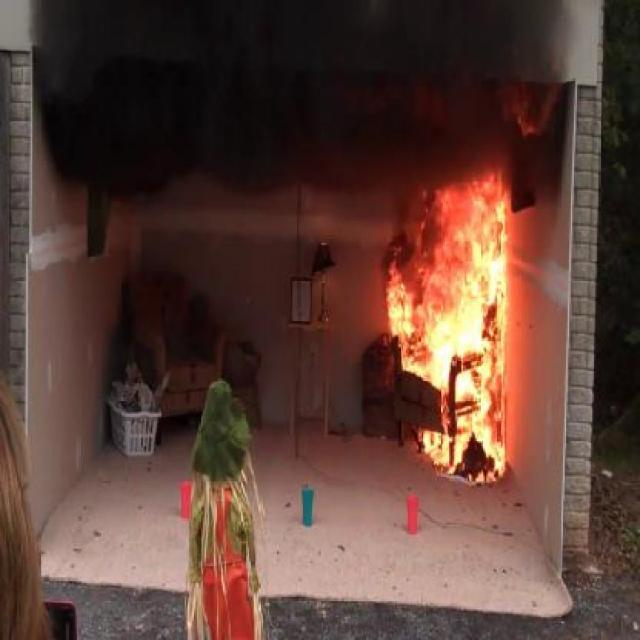fire: (380, 190, 540, 484)
smoke: (70, 18, 516, 218)
